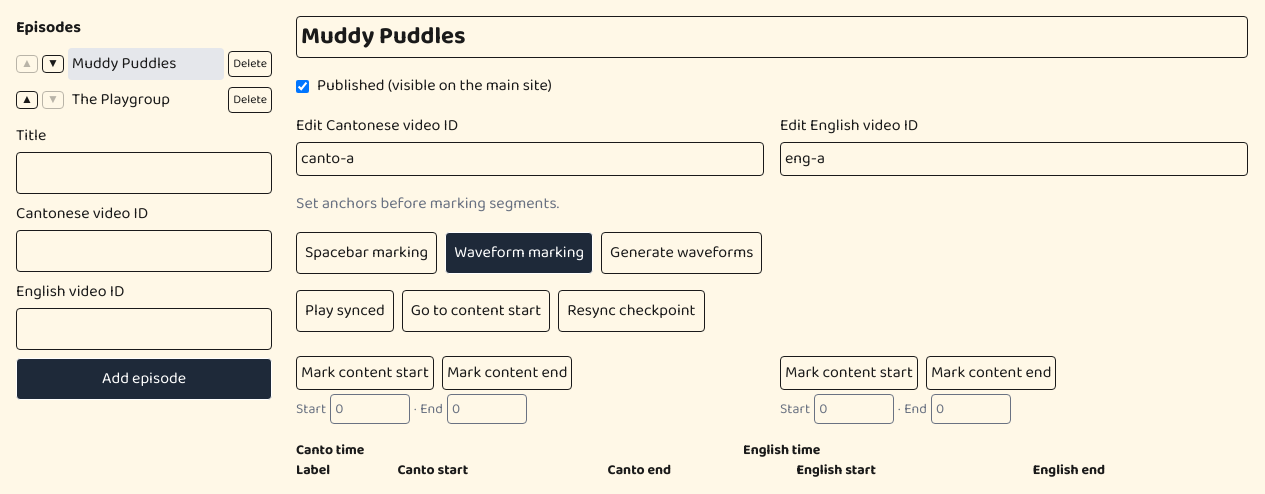
Test: Admin › lists episodes and switches the selected panel without navigating
Expected: the field named "Episode title" holds "Muddy Puddles", [296,16,1248,58]
Click the button "The Playgroup" at (146, 100), box [68,84,224,116]
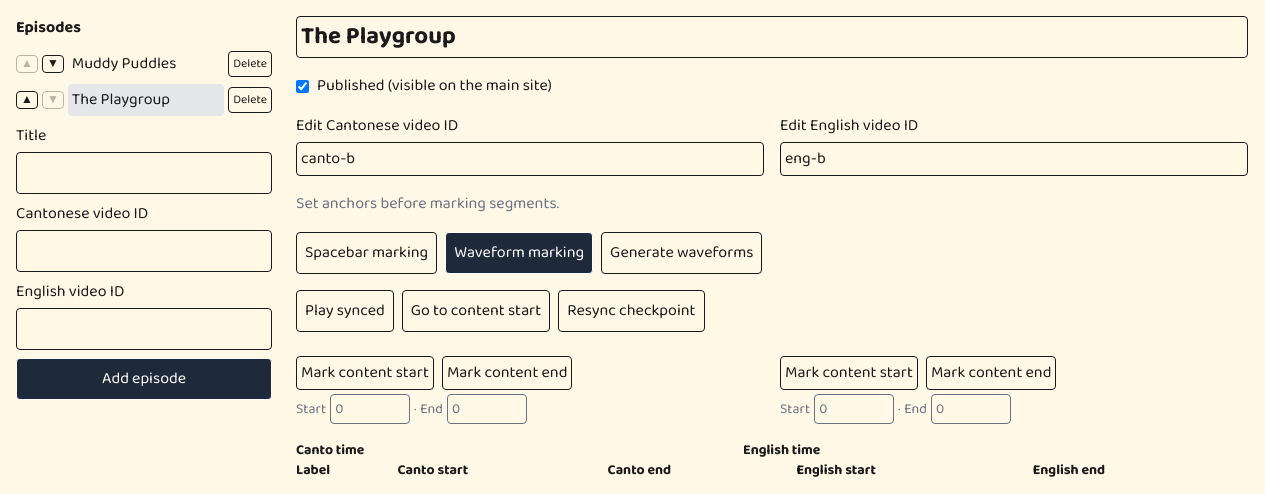
Expected: the field named "Episode title" holds "The Playgroup", [296,16,1248,58]
